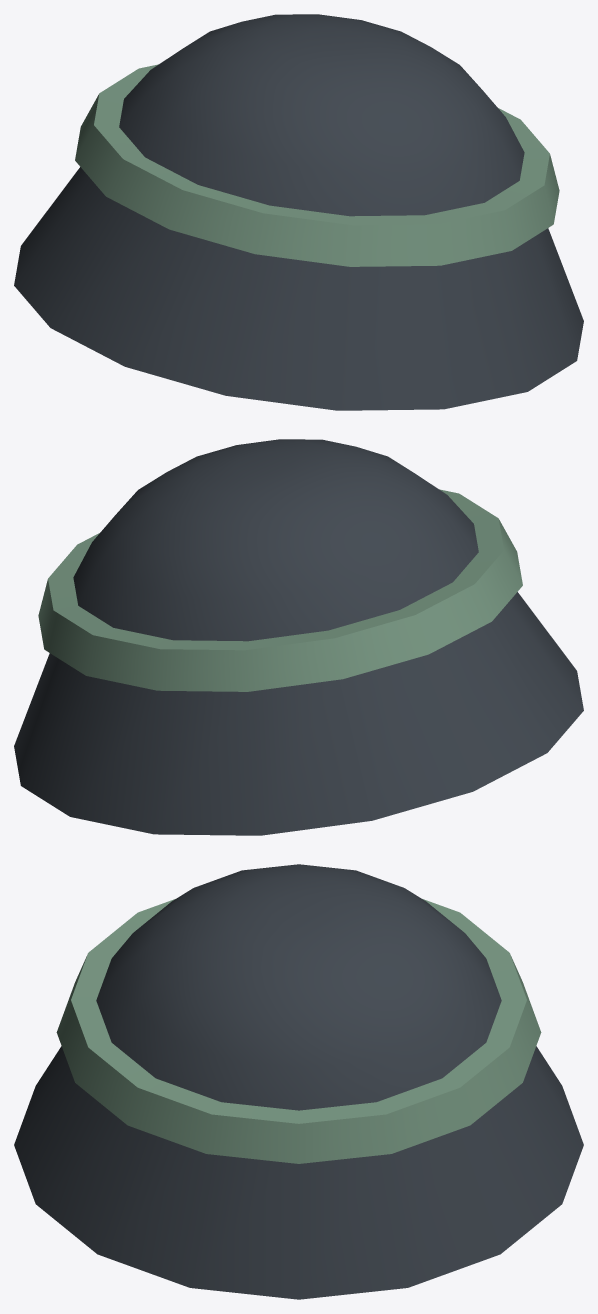
Rendered from Helmet02.fbx.
3 renders of one model, top to bottom at view 1: azimuth 30°, elevation 25°; view 2: azimuth 150°, elevation 25°; view 3: azimuth 270°, elevation 25°, orthographic.
Visible parts, largest first — view 1: Helmet02; view 2: Helmet02; view 3: Helmet02.
Part boxes in pixels (<box>): Helmet02: <box>14,14,583,410</box>; Helmet02: <box>14,439,583,835</box>; Helmet02: <box>14,864,583,1299</box>.
Size of the model in its own units: 1.06 by 1.07 by 0.6061.
